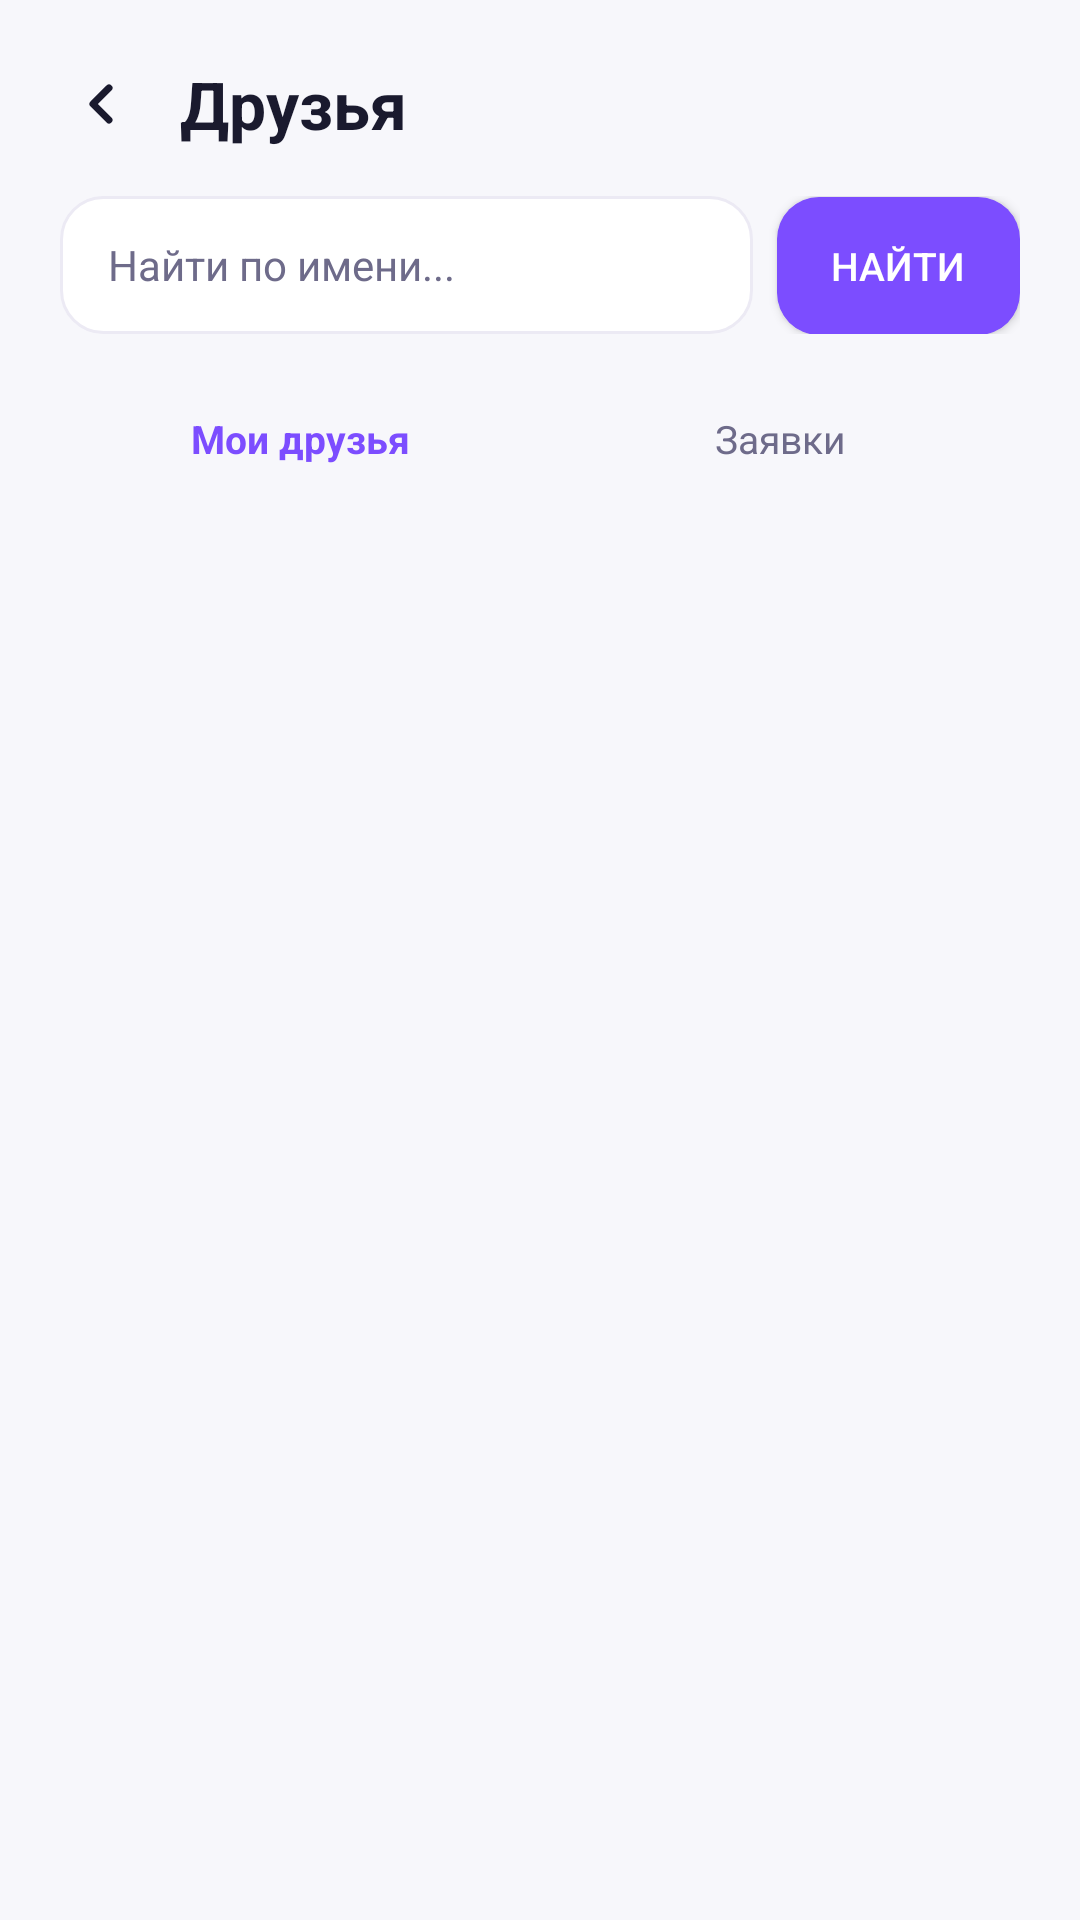

Named icons in this screenshot (1080px x 1920px) and their centers, (x,y):
back: (101,104)
